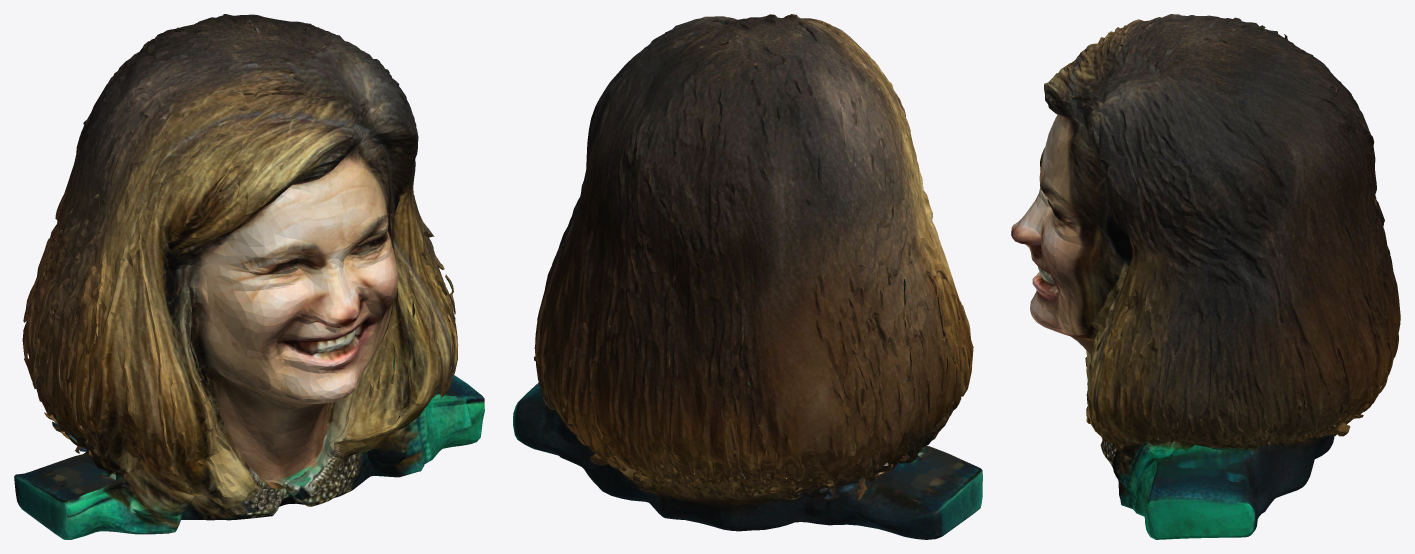
The picture shows the model from 3 angles, left to right: view 1: azimuth 30°, elevation 25°; view 2: azimuth 150°, elevation 25°; view 3: azimuth 270°, elevation 25°; orthographic projection. The views are drawn at different scales.
Visible parts, largest first — view 1: tmptkl1x3uy.ply; view 2: tmptkl1x3uy.ply; view 3: tmptkl1x3uy.ply.
Boxes of the visible parts, left/top/right/bottom form: tmptkl1x3uy.ply: left=14, top=14, right=484, bottom=539; tmptkl1x3uy.ply: left=513, top=14, right=982, bottom=539; tmptkl1x3uy.ply: left=1011, top=14, right=1400, bottom=539.
Size of the model in its own units: 1.99 by 1.99 by 1.69.
Materials: 1 (1 with a texture image).
